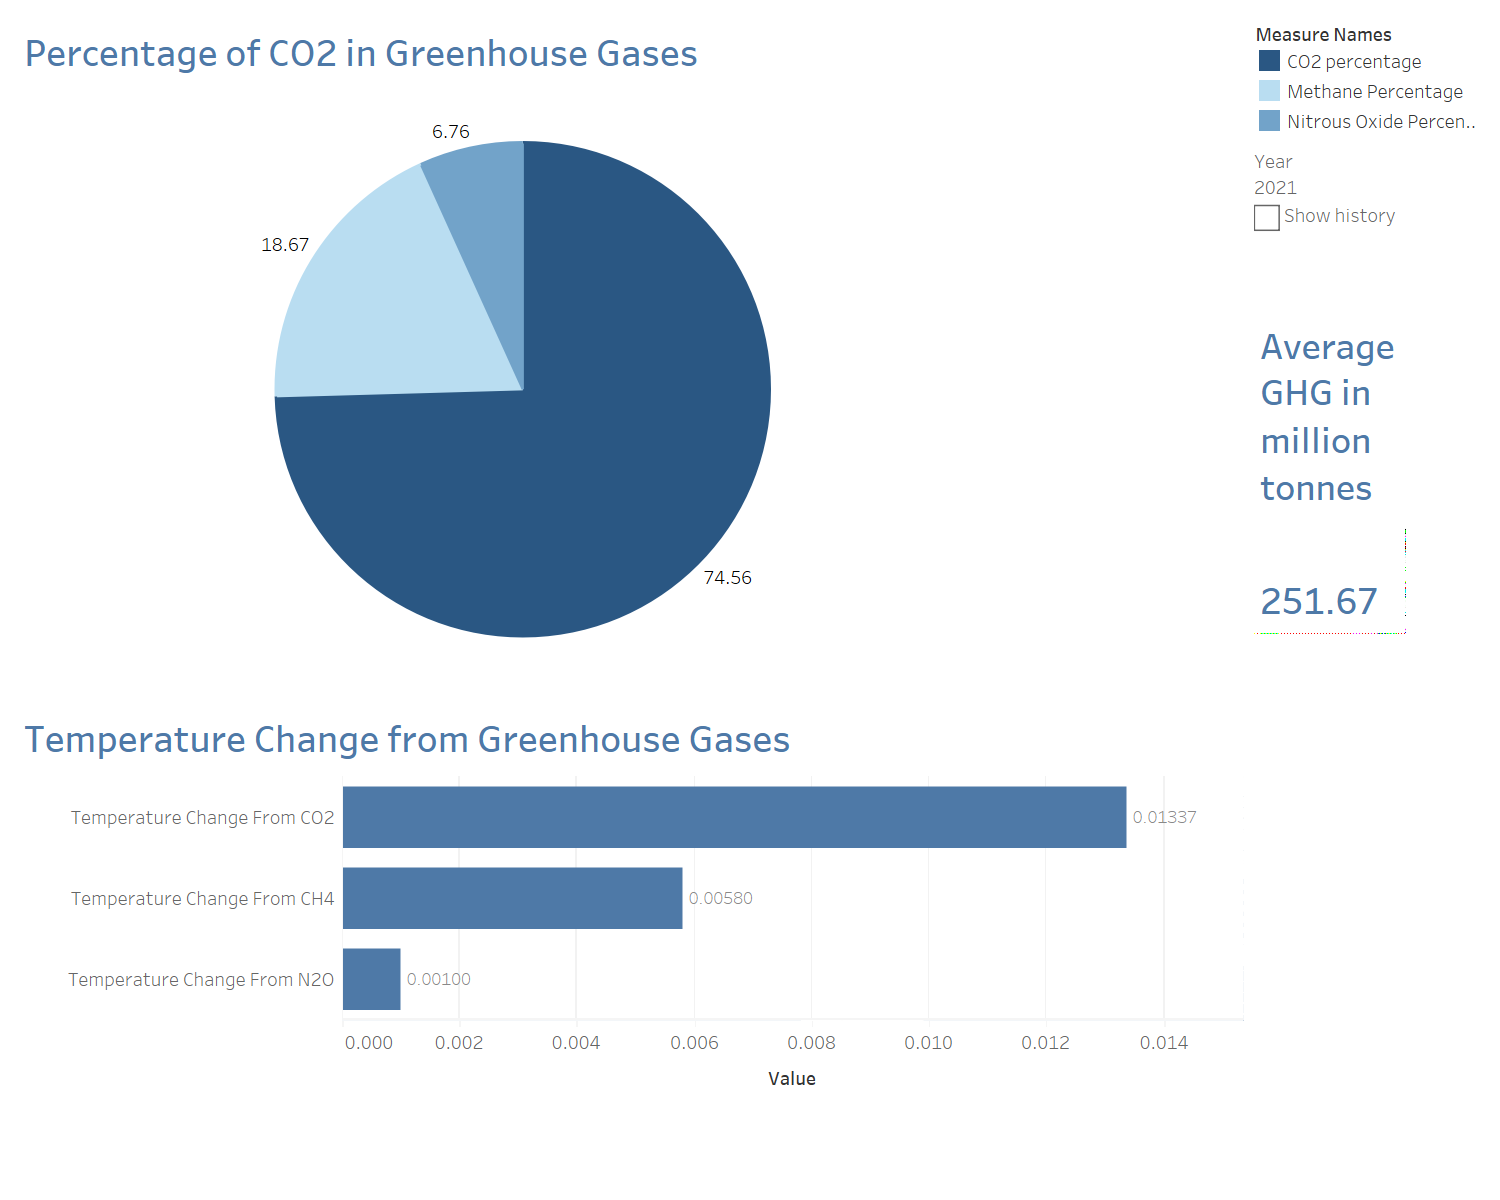

What the dashboard file says about the page in this screenshot:
{"tool":"tableau","page":{"name":"Story 7","canvas":[1000,800],"ordinal":2},"visuals":[{"type":"worksheet","title":"Story 7 - 1","mark":"Automatic","rows":["co2"],"cols":["gdp"],"box":[8,8,984,392]},{"type":"worksheet","title":"Story 7 - 2","mark":"Automatic","rows":["co2_per_capita","co2_per_gdp"],"cols":["year"],"box":[8,400,492,392]},{"type":"worksheet","title":"Story 7 - 3","mark":"Bar","rows":["year"],"box":[500,400,492,392]}]}

Visuals, with their boxes in screenshot pixels (x1, y1, x2, y2), scaled from the page's 1000x800 canvas onto the 1500x1200 screenshot:
"Story 7 - 1" worksheet: [12, 12, 1488, 600]
"Story 7 - 2" worksheet: [12, 600, 750, 1188]
"Story 7 - 3" worksheet (Bar marks): [750, 600, 1488, 1188]
